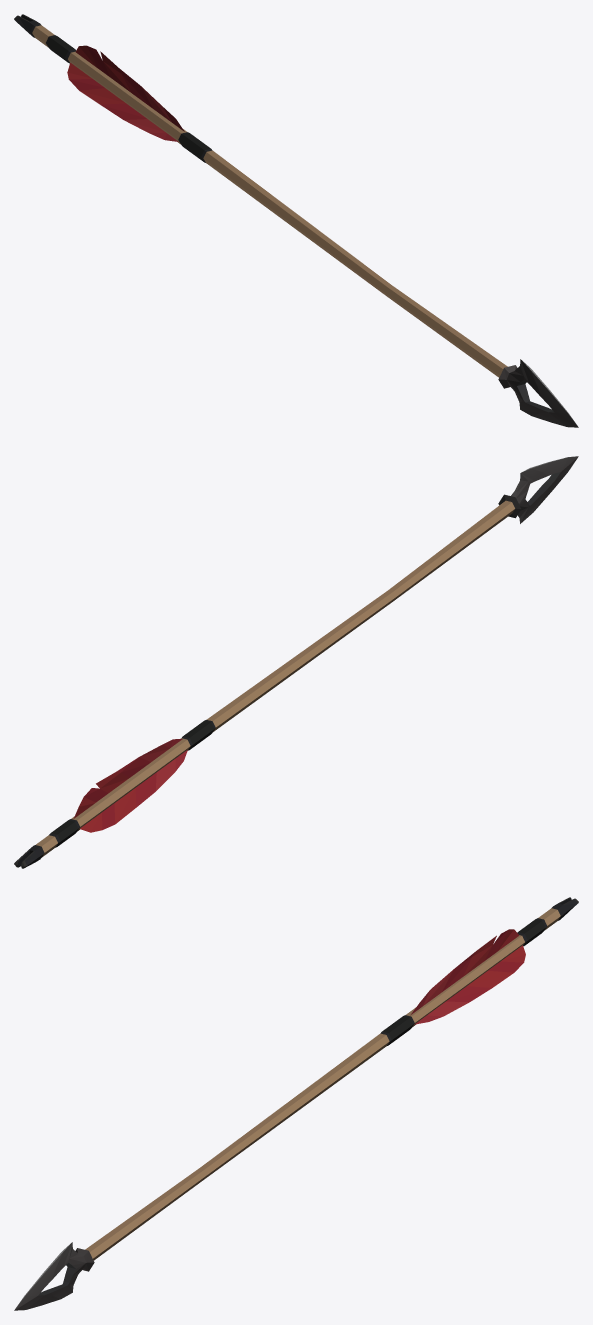
The model's file is yajiriVSharpHeartArrow.glb.
3 renders of one model, top to bottom at view 1: azimuth 30°, elevation 25°; view 2: azimuth 150°, elevation 25°; view 3: azimuth 330°, elevation 25°, orthographic.
Parts seen in each view (by area): view 1: YanoneVSharpHeartArrow; view 2: YanoneVSharpHeartArrow; view 3: YanoneVSharpHeartArrow.
Boxes of the visible parts, x1=… form: YanoneVSharpHeartArrow: x1=14, y1=14, x2=578, y2=427; YanoneVSharpHeartArrow: x1=14, y1=456, x2=578, y2=868; YanoneVSharpHeartArrow: x1=14, y1=897, x2=578, y2=1310.
Size of the model in its own units: 0.041 by 0.0541 by 1.08.
